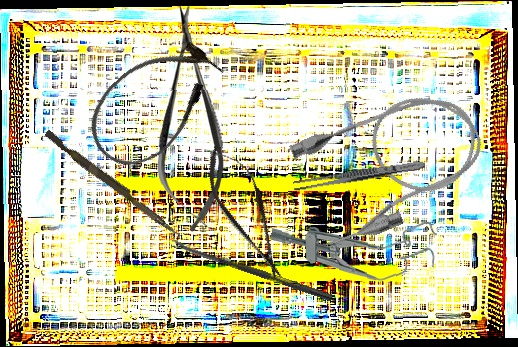Cannula: (276, 76, 500, 258), (71, 22, 238, 184)
Dressing Forceps: (292, 157, 427, 194)
Micro Scissor: (154, 4, 227, 233), (194, 136, 299, 289)
Pusher: (41, 129, 186, 239)
Speculum: (269, 215, 438, 283)
Surgical Spoon: (170, 238, 334, 302)
